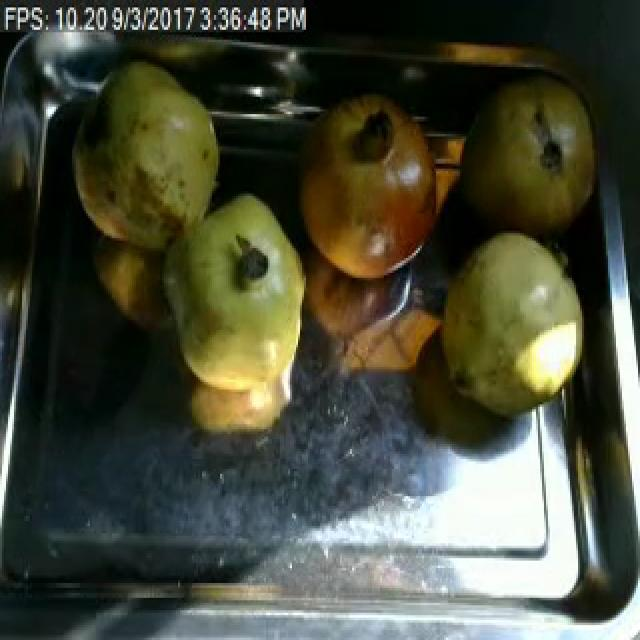fruit: (152, 181, 326, 412), (60, 42, 228, 268), (288, 87, 456, 293), (430, 223, 590, 427), (454, 62, 608, 236)
